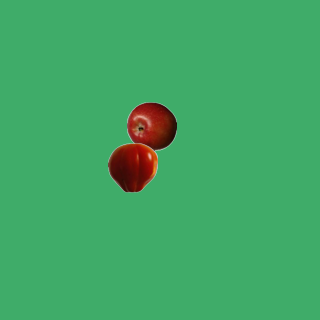Apple Braeburn: (126, 101, 176, 151)
Tomato 1: (107, 142, 157, 192)
